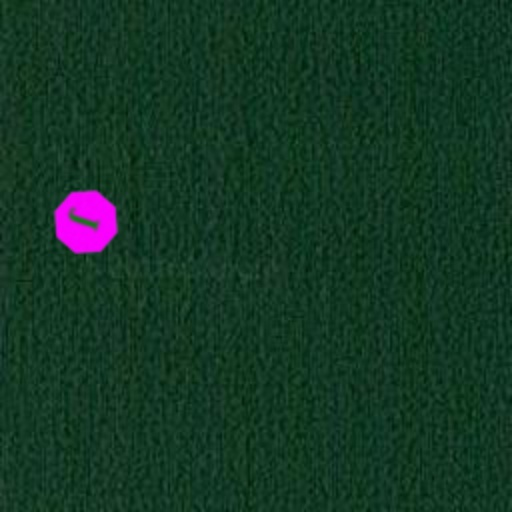octagon: (44, 180, 128, 264)
